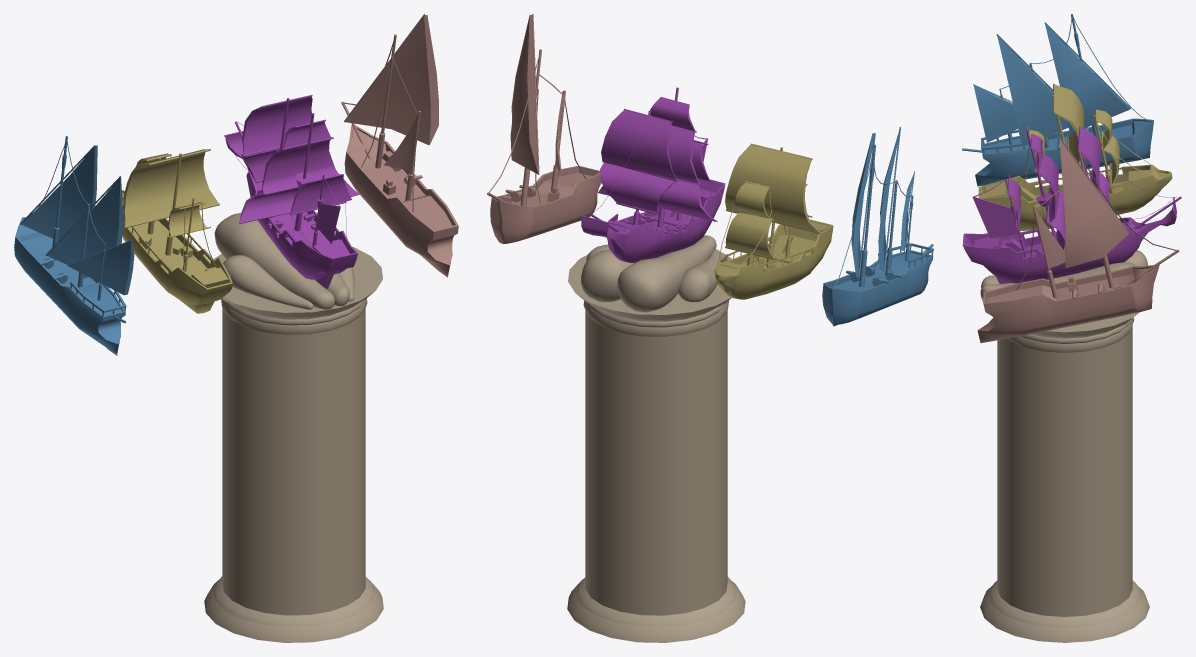
The model's file is 4Boats.fbx.
3 renders of one model, left to right at view 1: azimuth 30°, elevation 25°; view 2: azimuth 150°, elevation 25°; view 3: azimuth 270°, elevation 25°, orthographic. The views are drawn at different scales.
Visible parts, largest first — view 1: Pillar5, Boat7, Boat10, Boat9, Boat8; view 2: Pillar5, Boat10, Boat8, Boat7, Boat9; view 3: Pillar5, Boat7, Boat9, Boat10, Boat8.
Boxes of the visible parts, x1,y1,x2,y2 form: Pillar5: (204,213,383,642); Boat7: (341,14,458,277); Boat10: (224,95,359,289); Boat9: (14,136,134,355); Boat8: (122,148,232,313); Pillar5: (567,235,745,642); Boat10: (581,87,725,262); Boat8: (714,143,833,299); Boat7: (487,14,601,243); Boat9: (822,127,933,326); Pillar5: (980,250,1149,642); Boat7: (977,136,1179,342); Boat9: (962,14,1153,186); Boat10: (962,126,1181,283); Boat8: (978,84,1172,230).
Size of the model in its own units: 82.71 by 114 by 42.92.
